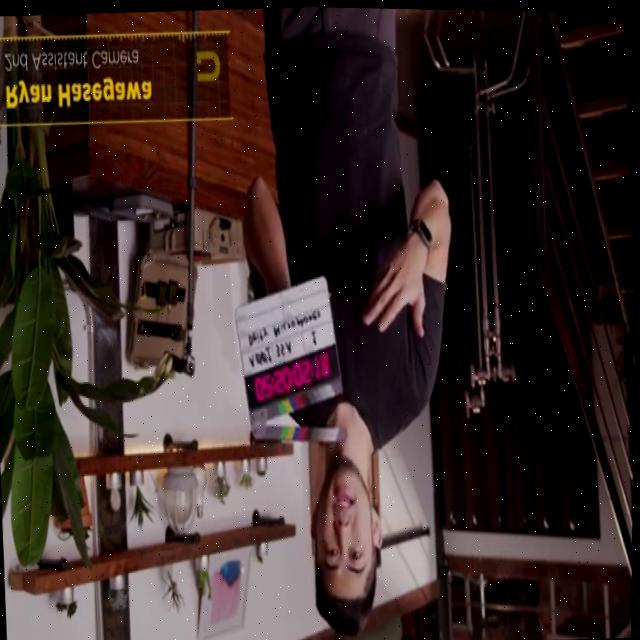Clapperboard: (235, 273, 346, 441)
